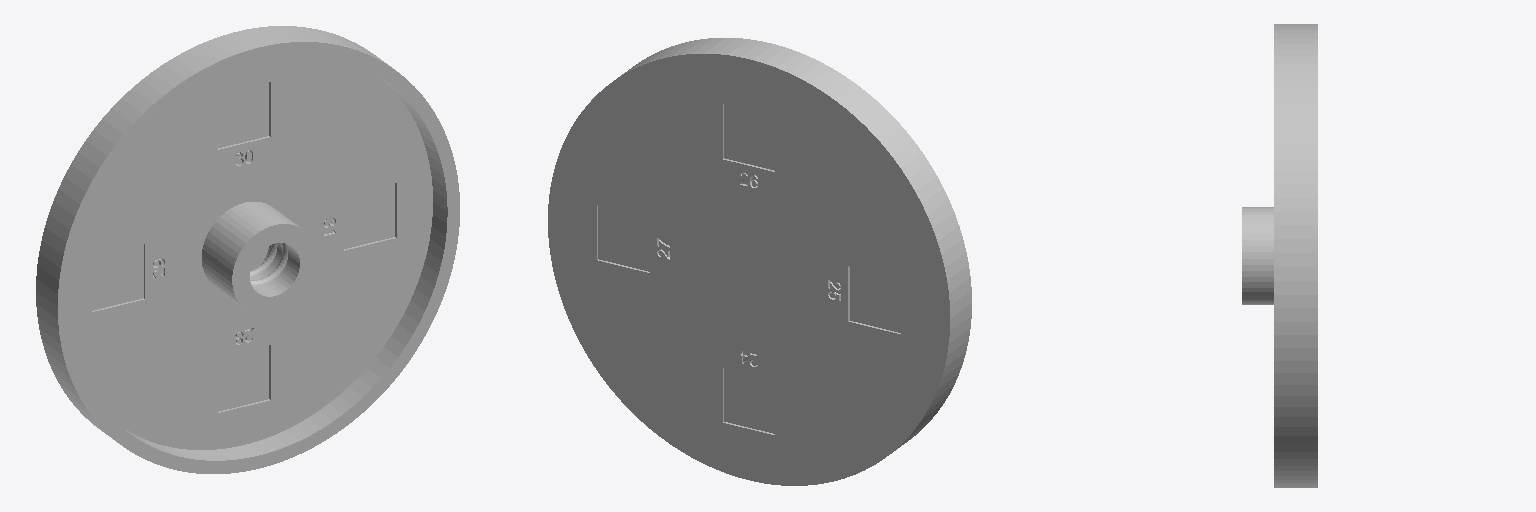
File: round_table_top.obj
3 renders of one model, left to right at view 1: azimuth 30°, elevation 25°; view 2: azimuth 150°, elevation 25°; view 3: azimuth 270°, elevation 25°, orthographic.
Parts seen in each view (by area): view 1: round_table_top_v11, round_table_top_v11.006, round_table_top_v11.008, round_table_top_v11.005, round_table_top_v11.007; view 2: round_table_top_v11, round_table_top_v11.002, round_table_top_v11.004, round_table_top_v11.003, round_table_top_v11.001; view 3: round_table_top_v11.
Boxes of the visible parts, box(x1,y1,x2,y2) form: round_table_top_v11: box(36, 26, 459, 473); round_table_top_v11.006: box(92, 244, 144, 311); round_table_top_v11.008: box(344, 183, 396, 250); round_table_top_v11.005: box(218, 345, 270, 412); round_table_top_v11.007: box(218, 82, 270, 149); round_table_top_v11: box(548, 38, 971, 485); round_table_top_v11.002: box(848, 266, 900, 333); round_table_top_v11.004: box(597, 205, 649, 272); round_table_top_v11.003: box(723, 104, 774, 171); round_table_top_v11.001: box(723, 368, 774, 434); round_table_top_v11: box(1242, 24, 1317, 487).
Size of the model in its own units: 0.2 by 0.2 by 0.0325.